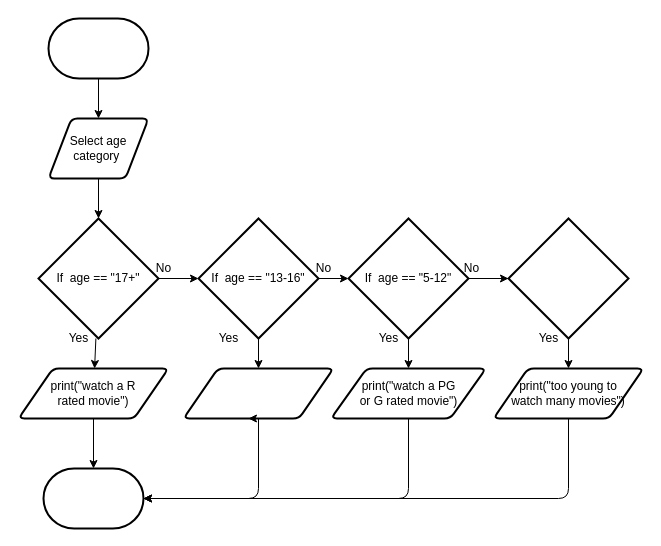
Image size: 661x546. Some labels were removed from this diagram. The shapes that lost their labels are listed below. From the top down, each one's box as (x1, y1, x2, y2) in pixels, then its label:
(47, 17, 149, 79): Start
(507, 217, 629, 339): If age == "5-"
(182, 367, 334, 419): print("watch a PG 13 rated movie")
(42, 467, 144, 529): Stop
